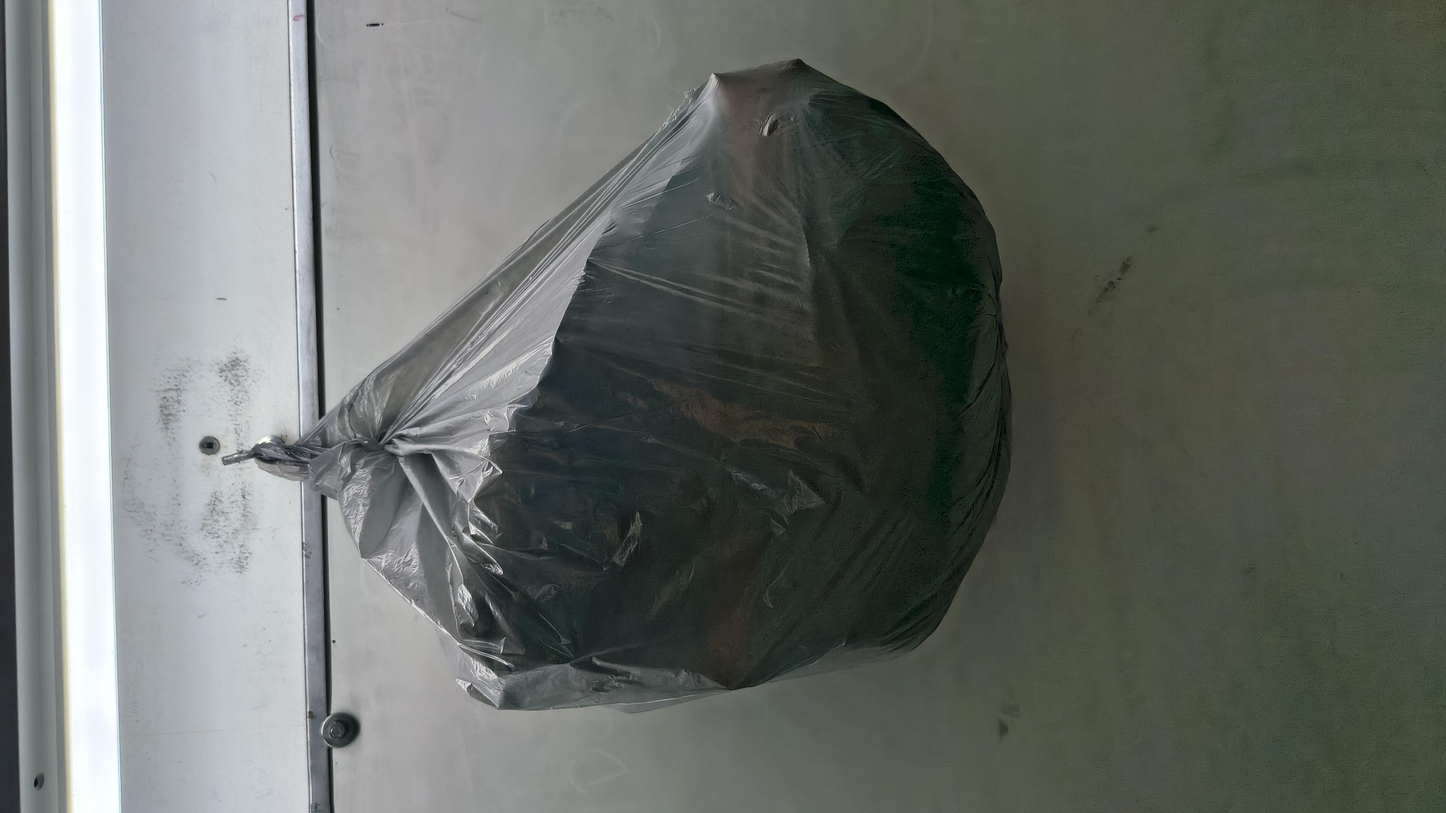Garbage: (88, 133, 1393, 584)
